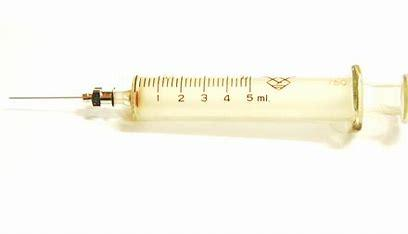Syringe: (5, 60, 408, 140)
